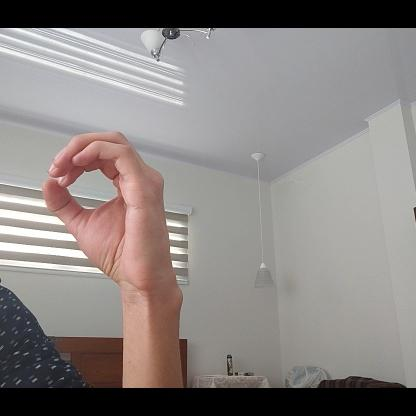O: (41, 131, 176, 293)
